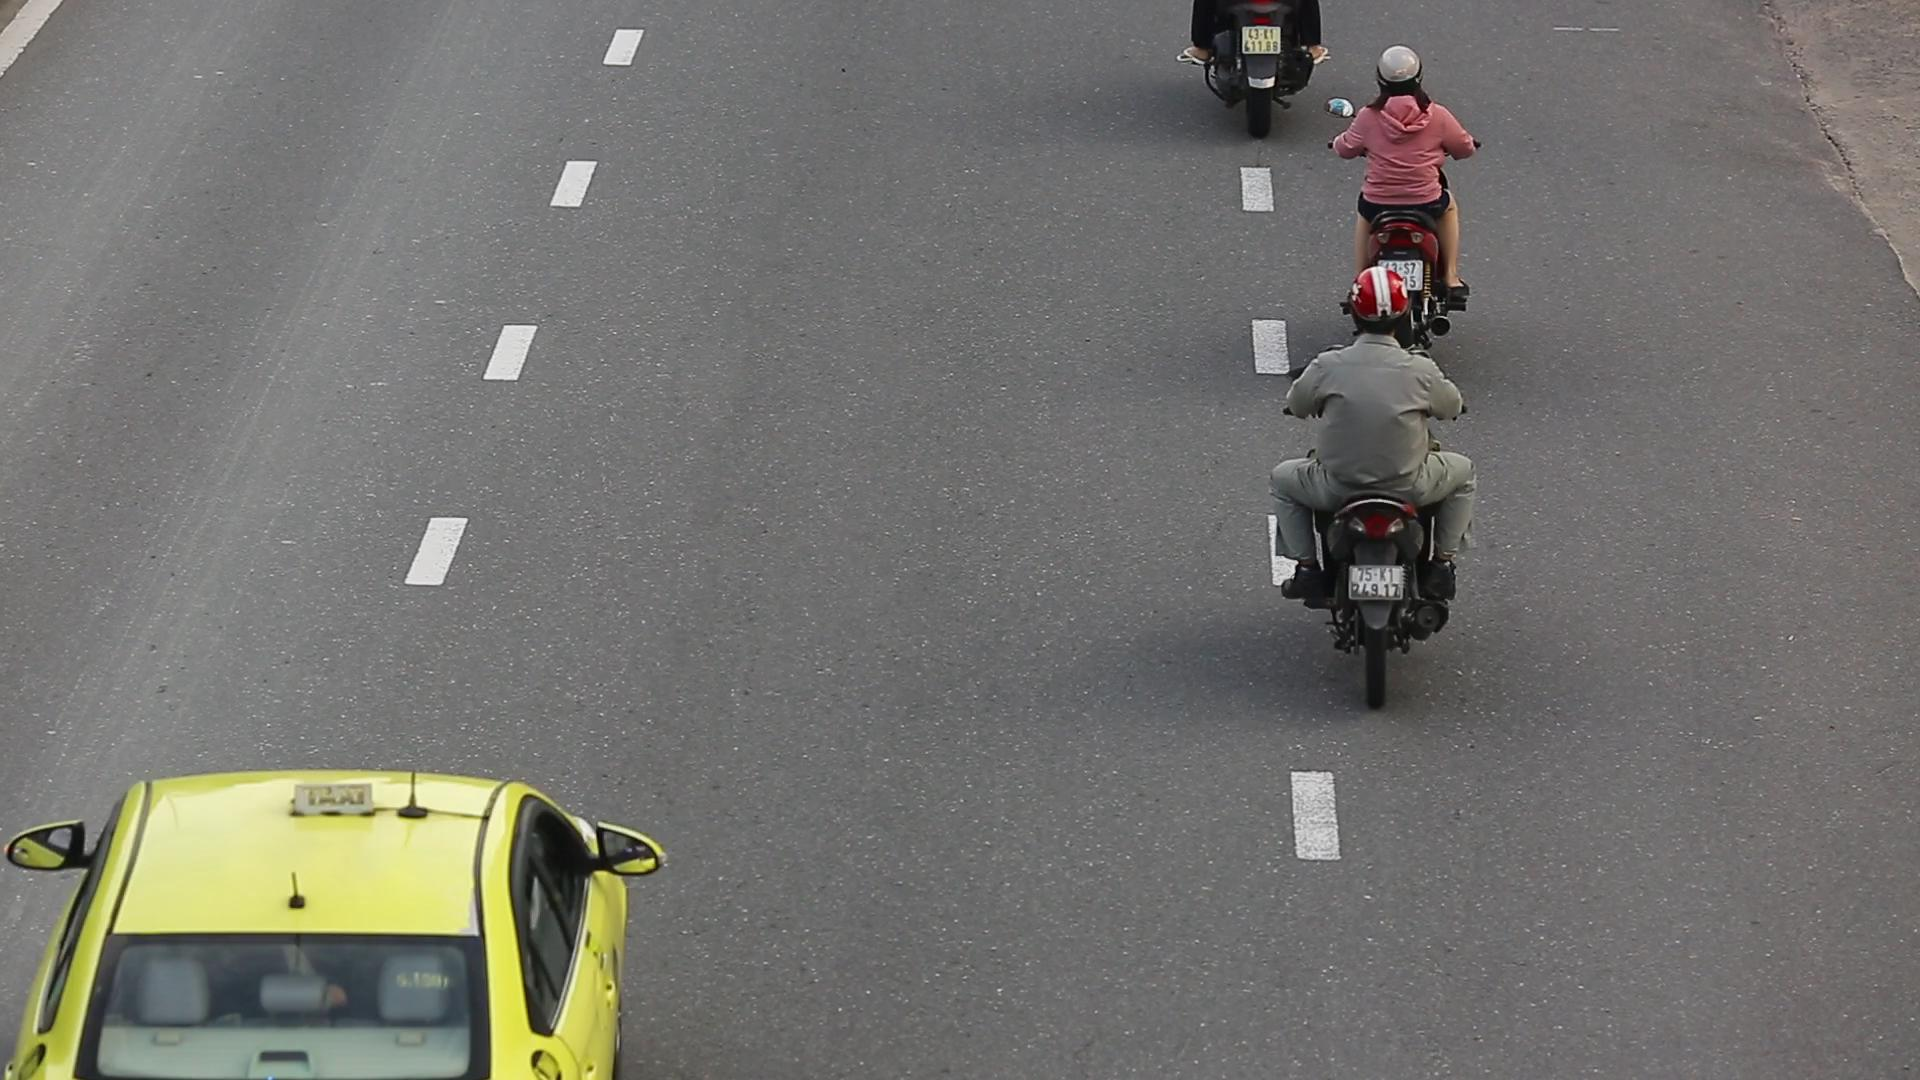motobike: (1261, 258, 1491, 725)
